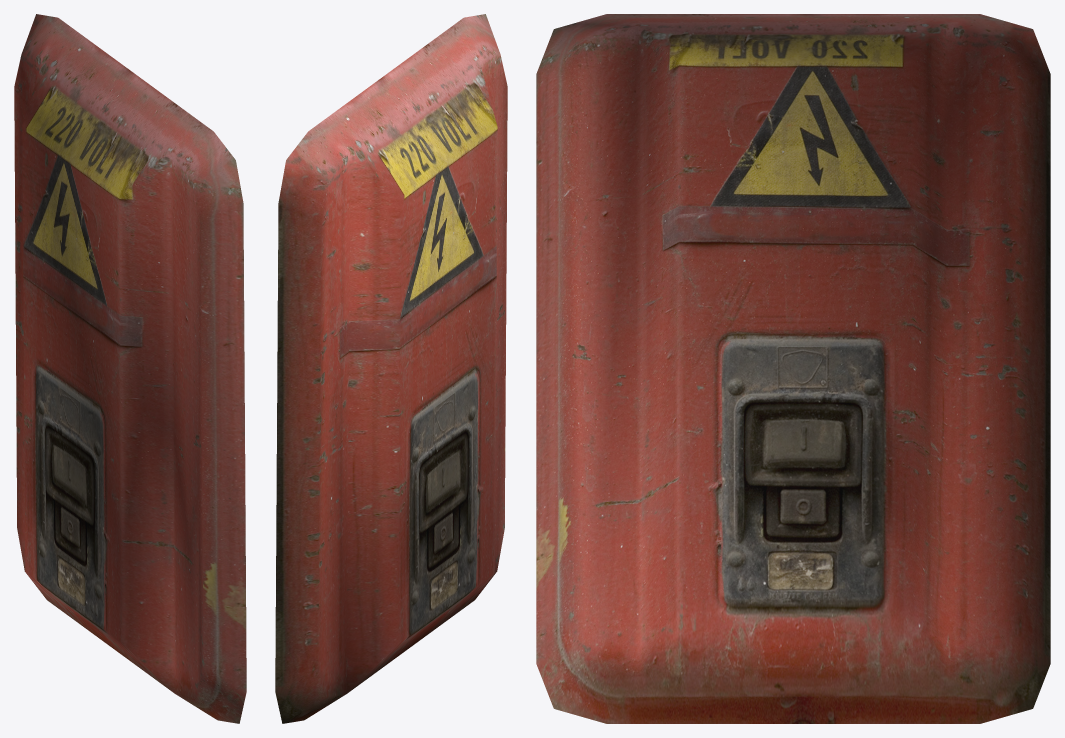
Rendered from panel2.FBX.
The picture shows the model from 3 angles, left to right: view 1: azimuth 30°, elevation 25°; view 2: azimuth 150°, elevation 25°; view 3: azimuth 270°, elevation 25°; orthographic projection. The views are drawn at different scales.
Parts seen in each view (by area): view 1: panel2; view 2: panel2; view 3: panel2.
Boxes of the visible parts, <box> form: panel2: <box>14,14,246,723</box>; panel2: <box>275,14,507,723</box>; panel2: <box>536,14,1050,723</box>.
Bounding box in the file's own units: 2.55 × 21.16 × 13.95.
